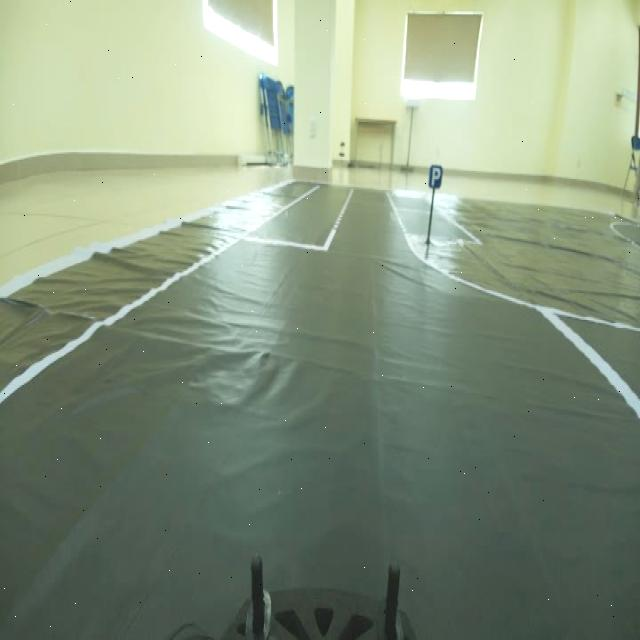parking: (424, 151, 447, 198)
